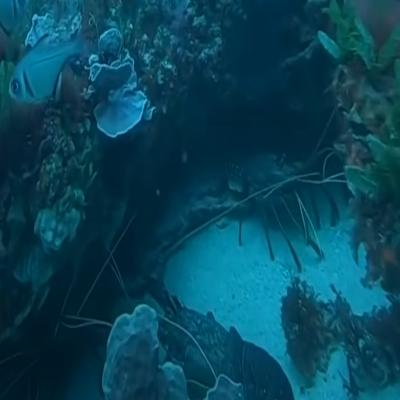lobster: (223, 136, 334, 269)
